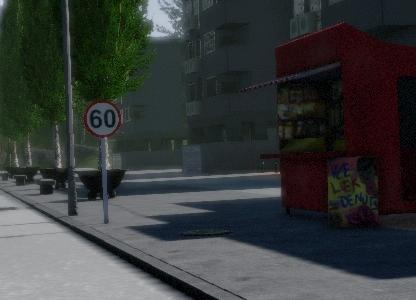Speed_60: (161, 85, 202, 135)
